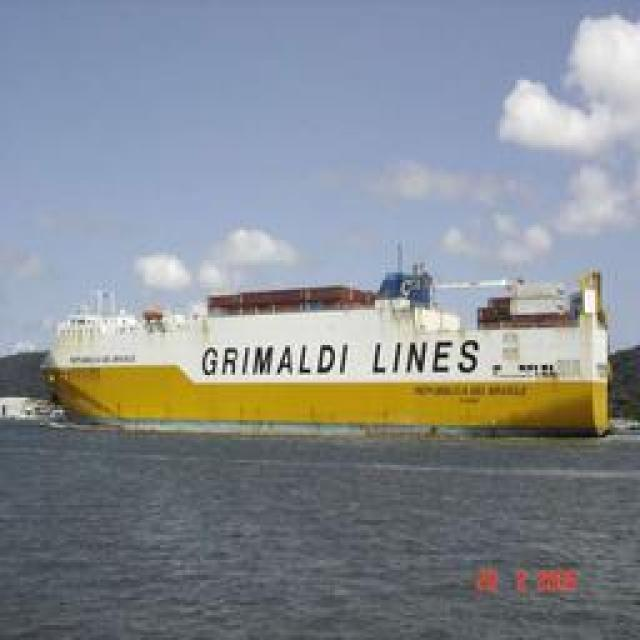ship2: (41, 235, 613, 438)
